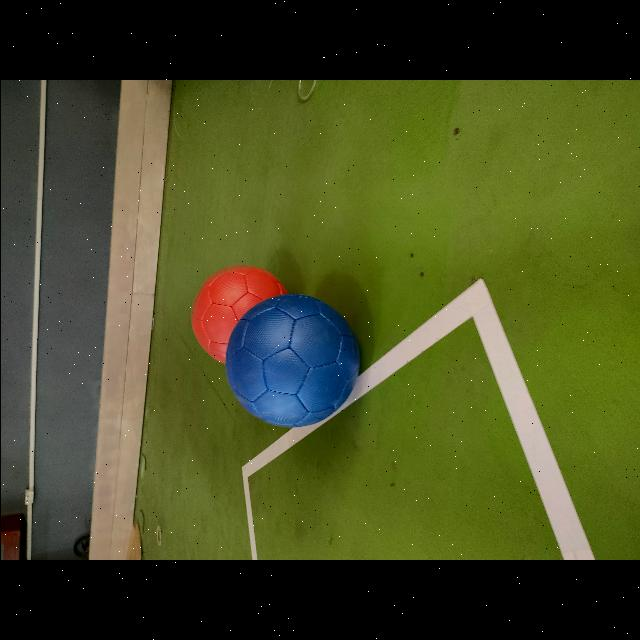B: (224, 295, 358, 427)
R: (192, 266, 284, 362)
